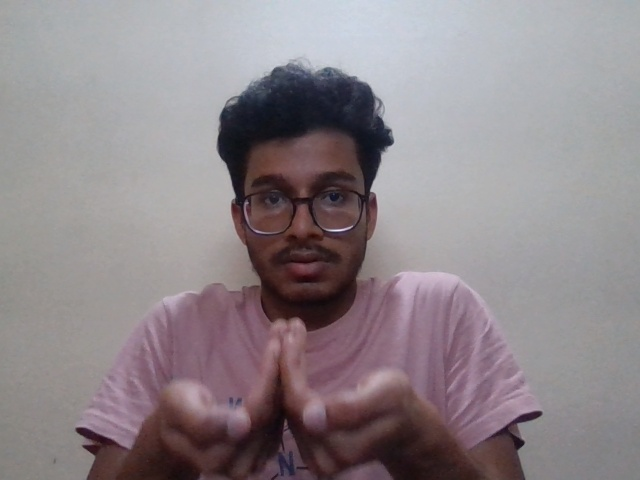tomorrow: (132, 309, 431, 476)
